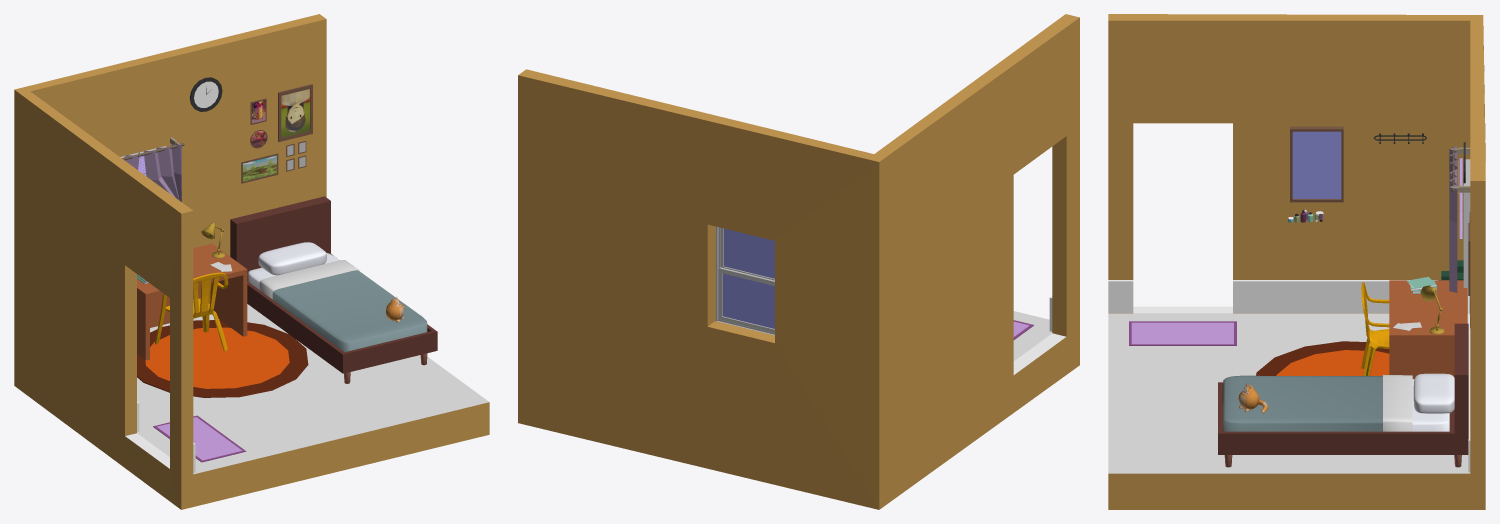
The model's file is Isometric_envi_only.fbx.
3 renders of one model, left to right at view 1: azimuth 30°, elevation 25°; view 2: azimuth 150°, elevation 25°; view 3: azimuth 270°, elevation 25°, orthographic. The views are drawn at different scales.
Parts seen in each view (by area): view 1: Envi, Bed.Placer, Circle.carpet, Selimut, Meja.belajar, Plane.001, Plane, Kursi, Bantal, Square.carpet, Circle.001, Plane.004; view 2: Envi, Window.L, Window.R; view 3: Envi, Selimut, Bed.Placer, Below.envi, Meja.belajar, Mirror, Circle.carpet, Square.carpet, Bantal, Plane, Kursi, Kasur (+1 smaller).
Boxes of the visible parts, box(x1,y1,x2,y2) form: Envi: box(14, 14, 489, 509); Bed.Placer: box(230, 196, 437, 373); Circle.carpet: box(137, 320, 308, 397); Selimut: box(259, 260, 427, 352); Meja.belajar: box(137, 243, 247, 360); Plane.001: box(278, 84, 312, 141); Plane: box(123, 142, 181, 201); Kursi: box(155, 272, 228, 351); Bantal: box(258, 242, 326, 275); Square.carpet: box(153, 415, 246, 462); Circle.001: box(189, 77, 222, 111); Plane.004: box(241, 153, 278, 183); Envi: box(518, 14, 1079, 509); Window.L: box(718, 267, 774, 332); Window.R: box(720, 227, 774, 280); Envi: box(1108, 14, 1485, 509); Selimut: box(1223, 374, 1412, 431); Bed.Placer: box(1218, 323, 1468, 454); Below.envi: box(1108, 280, 1470, 472); Meja.belajar: box(1389, 280, 1467, 378); Mirror: box(1290, 126, 1343, 202); Circle.carpet: box(1256, 341, 1389, 375); Square.carpet: box(1129, 321, 1236, 345); Bantal: box(1413, 373, 1454, 413); Plane: box(1449, 146, 1457, 292); Kursi: box(1361, 282, 1389, 375); Kasur: box(1412, 379, 1449, 431).
Bounding box in the file's own units: 136 × 125 × 130.
